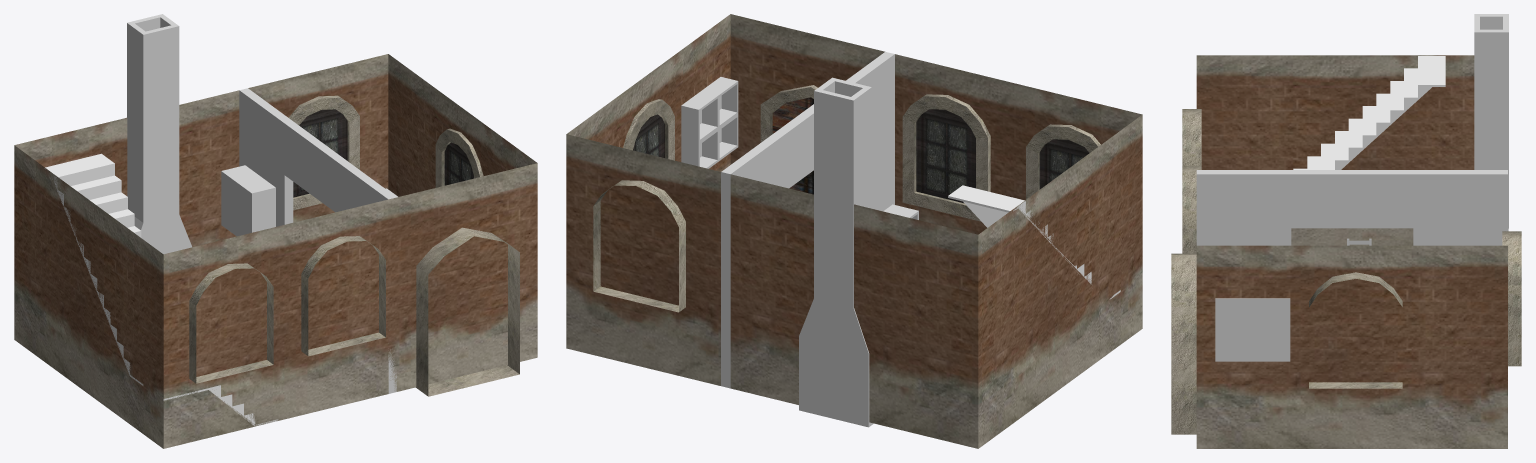
File: house_2.1stfloor.interior.fbx
The picture shows the model from 3 angles, left to right: view 1: azimuth 30°, elevation 25°; view 2: azimuth 150°, elevation 25°; view 3: azimuth 270°, elevation 25°; orthographic projection. The views are drawn at different scales.
Parts seen in each view (by area): view 1: house_1.003, fireplace_1.001, Cube, stair, sideboard_1.002; view 2: house_1.003, fireplace_1.001, Cube, store_2.001, stair; view 3: house_1.003, Cube, fireplace_1.001, store_2.001, stair.
Part boxes in pixels (left/top/right/bottom): house_1.003: left=14, top=54, right=537, bottom=448; fireplace_1.001: left=127, top=14, right=191, bottom=254; Cube: left=239, top=88, right=396, bottom=393; stair: left=44, top=153, right=278, bottom=426; sideboard_1.002: left=221, top=165, right=275, bottom=236; house_1.003: left=566, top=14, right=1142, bottom=448; fireplace_1.001: left=799, top=77, right=873, bottom=427; Cube: left=721, top=52, right=894, bottom=388; store_2.001: left=681, top=77, right=738, bottom=168; stair: left=948, top=185, right=1120, bottom=299; house_1.003: left=1171, top=55, right=1521, bottom=448; Cube: left=1196, top=170, right=1507, bottom=245; fireplace_1.001: left=1474, top=14, right=1508, bottom=231; store_2.001: left=1215, top=298, right=1290, bottom=361; stair: left=1293, top=56, right=1445, bottom=169.
Size of the model in its own units: 6.74 by 4.89 by 5.06.
